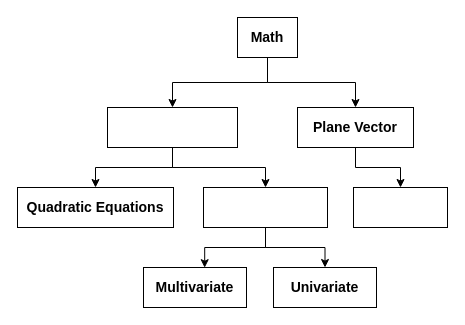
This 465x325 diagram has some shape labels left out. The shapes that lost their labels are listed below. From the top down, each one's centre as x and y in pixels, then its label:
At point 172,127: "Solve Equations".
At point 265,207: "Linear Equations".
At point 400,207: "Concept".
